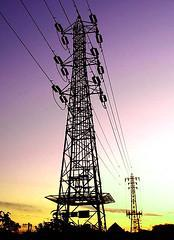power_tower: (43, 11, 113, 234), (117, 167, 147, 234)
